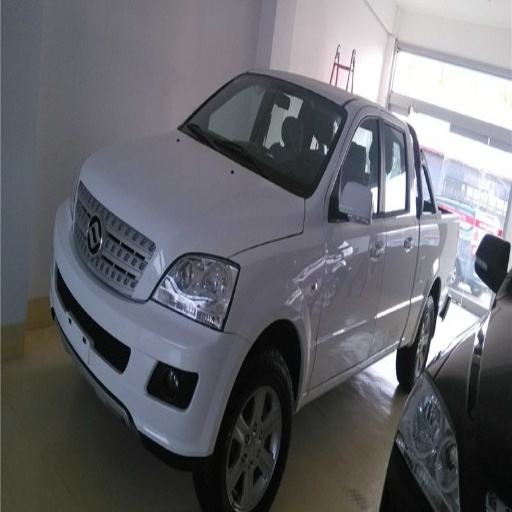back_glass: (378, 112, 420, 350)
back_right_light: (53, 242, 251, 462)
front_bumper: (188, 76, 348, 196)
front_glass: (310, 109, 386, 387)
front_left_door: (153, 255, 238, 323)
front_right_light: (81, 124, 303, 249)
tailgate: (423, 222, 459, 286)
trunk: (195, 350, 291, 511), (435, 436, 481, 511), (400, 297, 437, 379)
